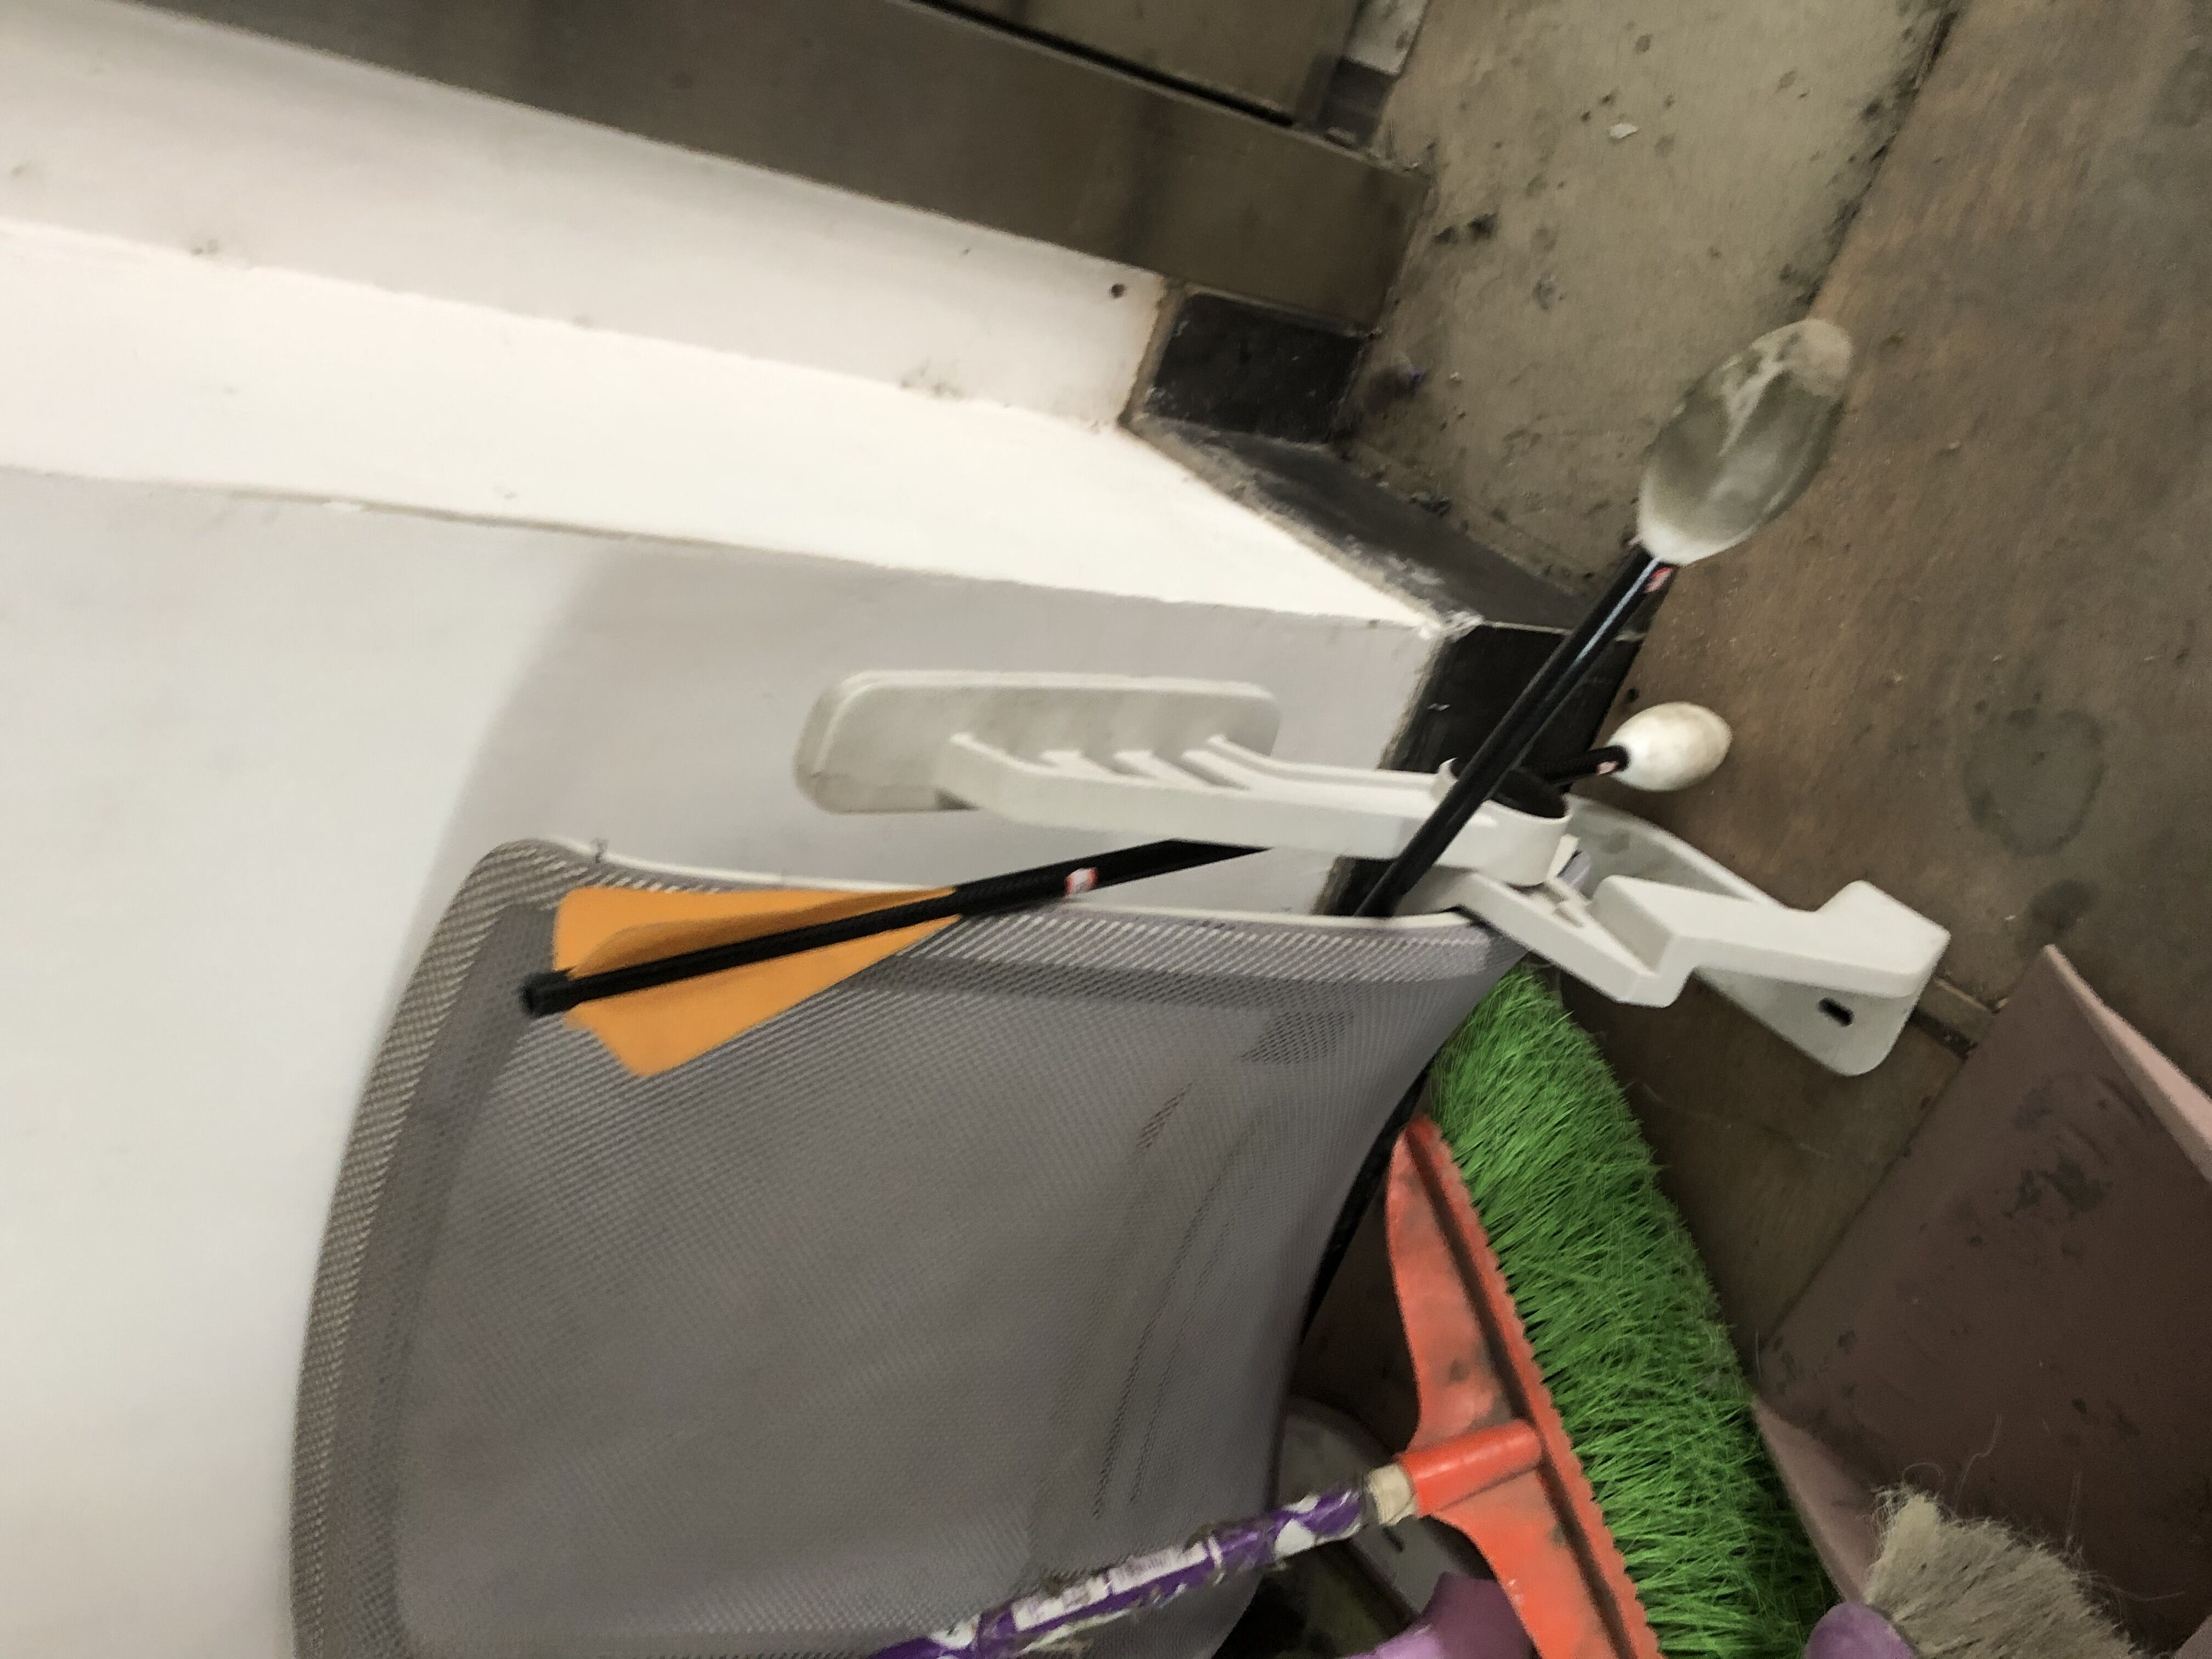arrow: (1357, 314, 1858, 913), (519, 843, 1266, 1073)
arrowFront: (1632, 315, 1860, 579), (1608, 701, 1733, 793)
